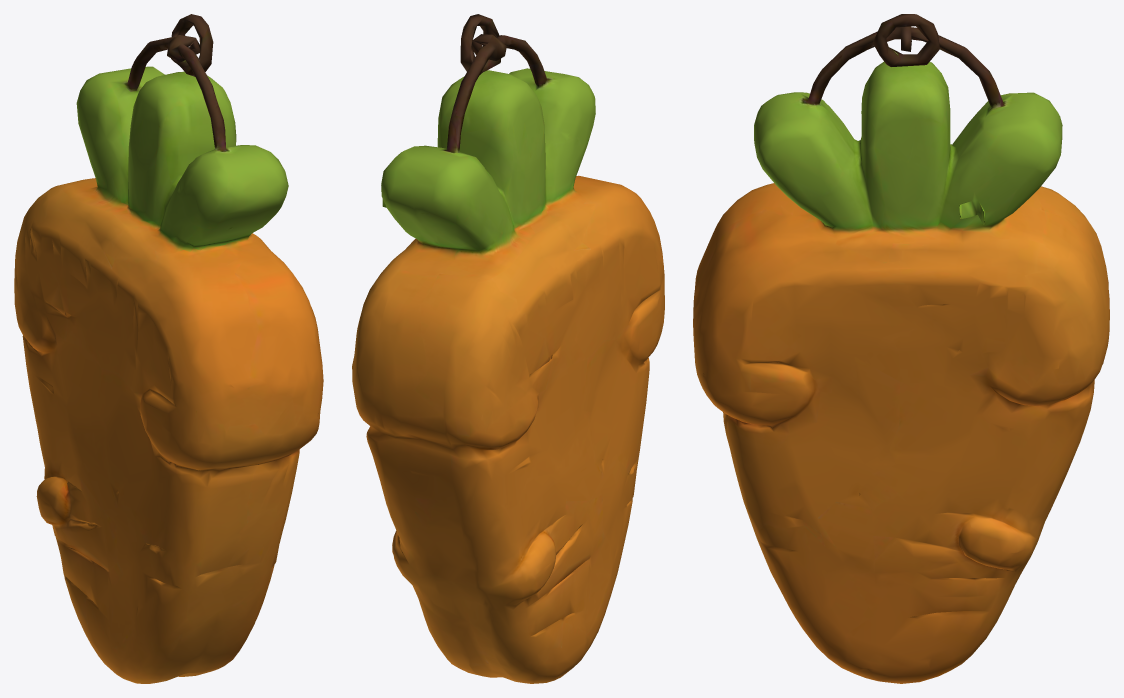
The model's file is sign.glb.
3 renders of one model, left to right at view 1: azimuth 30°, elevation 25°; view 2: azimuth 150°, elevation 25°; view 3: azimuth 270°, elevation 25°, orthographic. The views are drawn at different scales.
Visible parts, largest first — view 1: tripo_node_6729e439-0126-43f8-b0c1-1c46545f04e1; view 2: tripo_node_6729e439-0126-43f8-b0c1-1c46545f04e1; view 3: tripo_node_6729e439-0126-43f8-b0c1-1c46545f04e1.
Part boxes in pixels (x1=…): tripo_node_6729e439-0126-43f8-b0c1-1c46545f04e1: x1=14, y1=14, x2=323, y2=683; tripo_node_6729e439-0126-43f8-b0c1-1c46545f04e1: x1=352, y1=14, x2=664, y2=683; tripo_node_6729e439-0126-43f8-b0c1-1c46545f04e1: x1=693, y1=14, x2=1109, y2=683.
Size of the model in its own units: 0.2706 by 0.9989 by 0.5591.
Materials: 1 (1 with a texture image).
